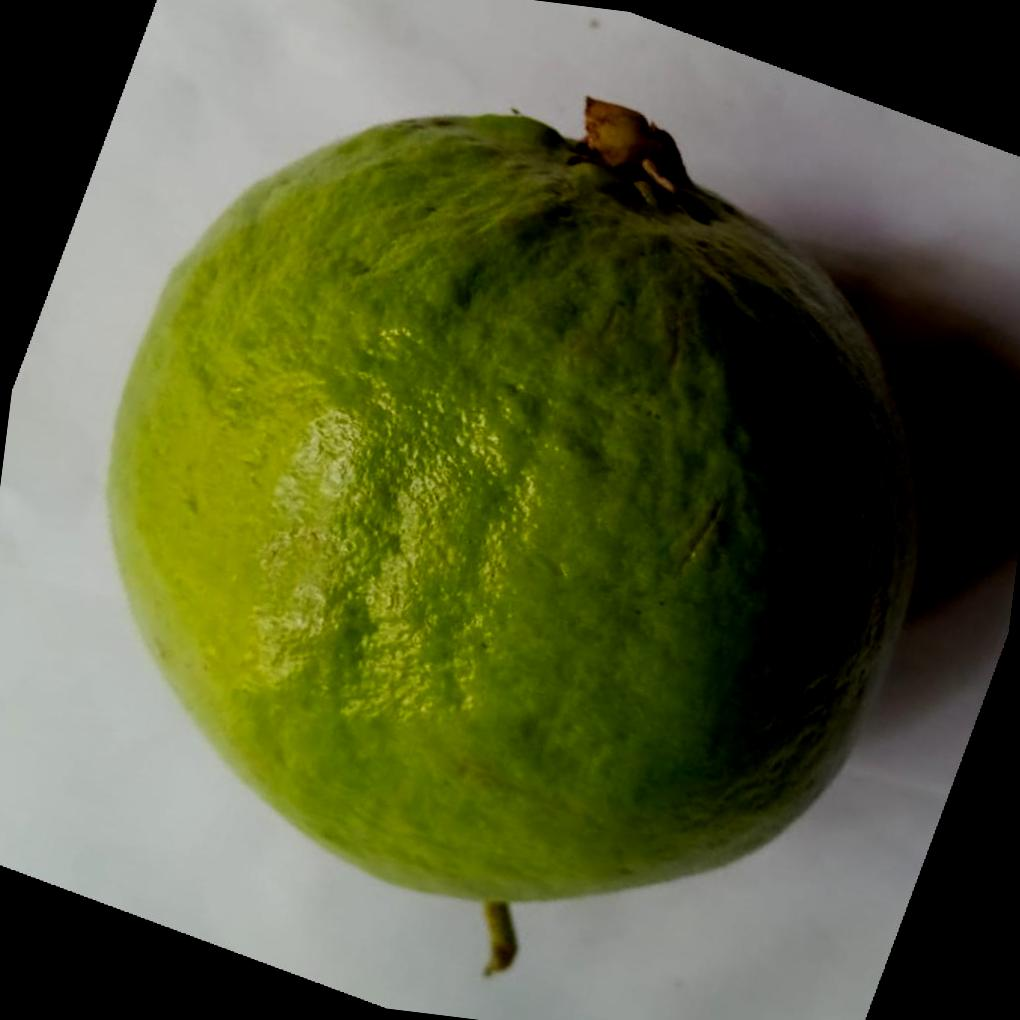FreshGuava: (104, 94, 923, 971)
